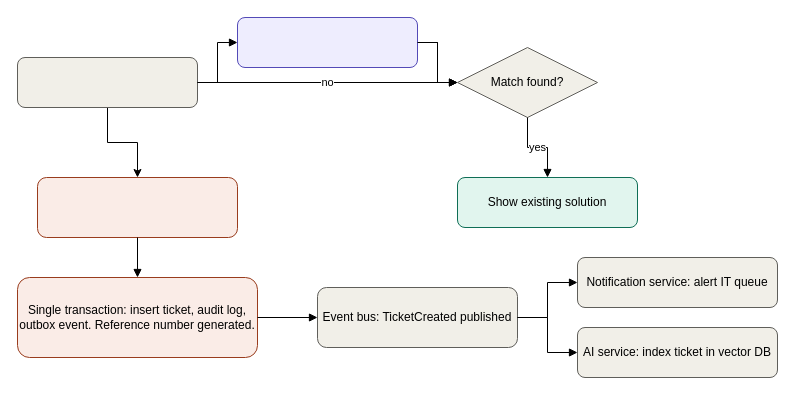
The diagram is 795 pixels wide and 395 high, and some of its shapes have lost their labels. Each missing label, with the centre of its shape:
"AI enrichment: category, priority suggested" goes at point 137,207.
"AI similarity search" goes at point 327,42.
"Employee submits issue" goes at point 107,82.
